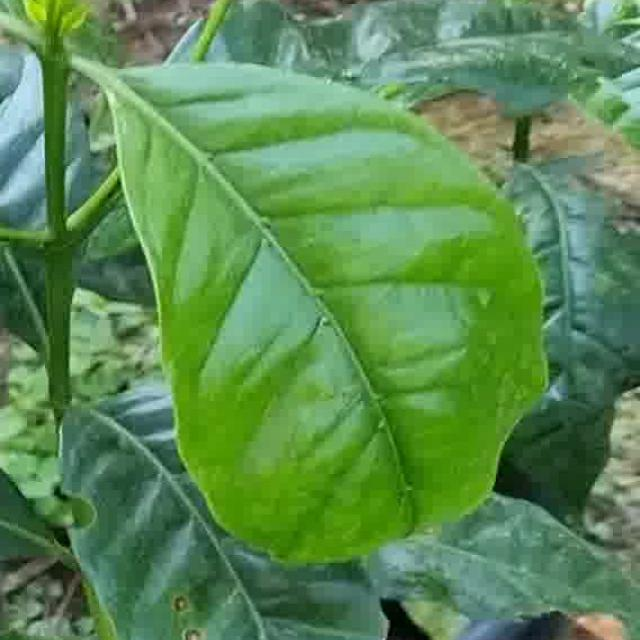leaves: (96, 0, 585, 579)
